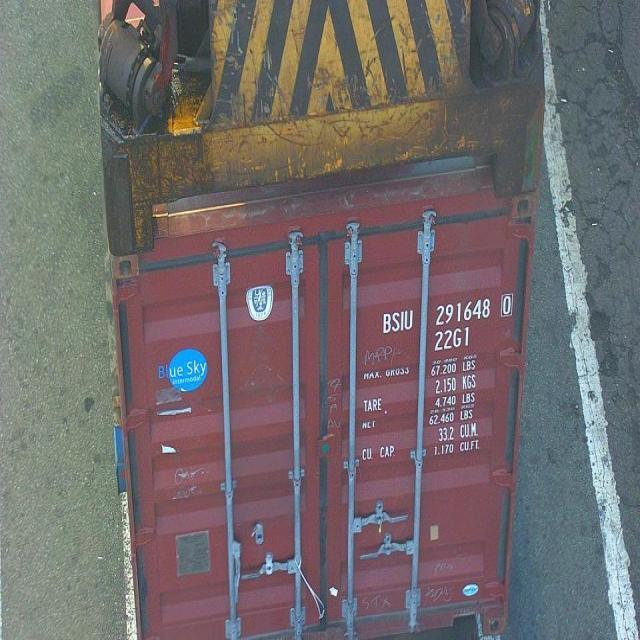ISO: (434, 326, 471, 350)
container_number: (382, 292, 513, 332)
